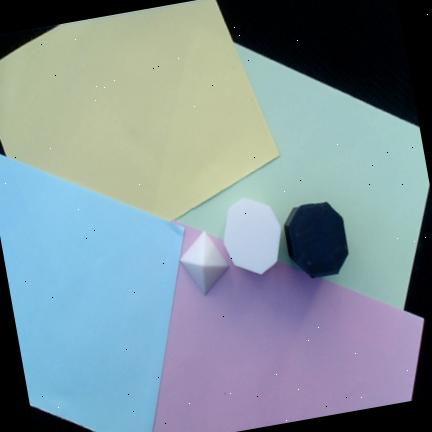Piramide: (179, 230, 230, 296)
Prisma_hexagonal: (284, 202, 349, 278), (223, 199, 282, 275)
